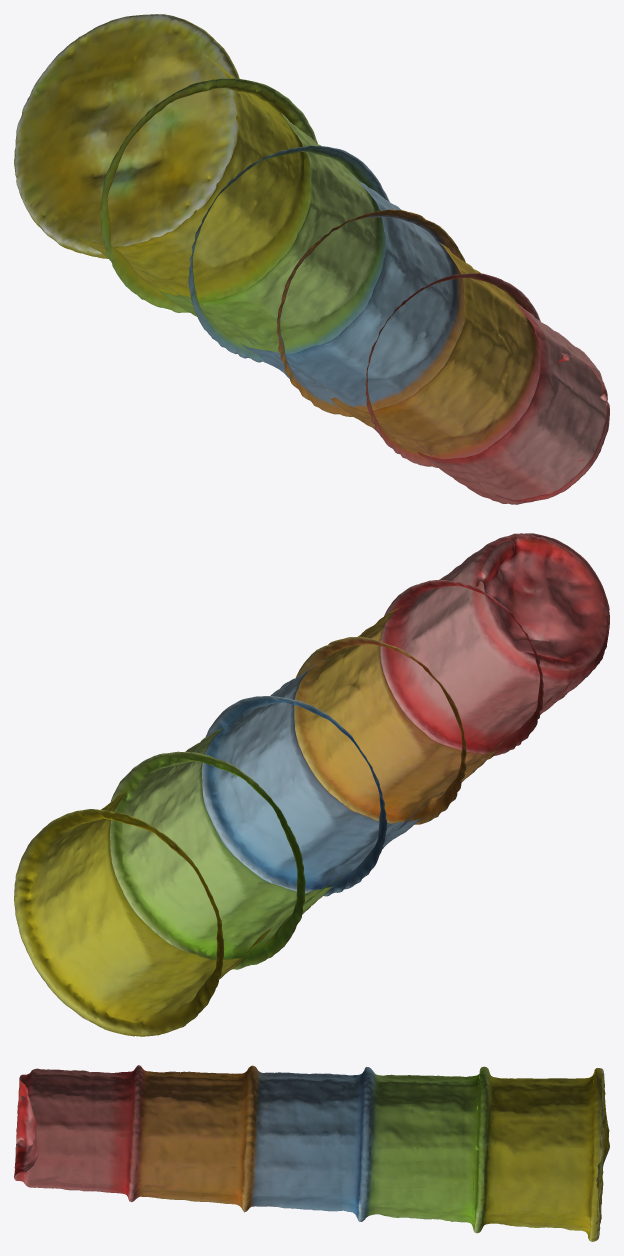
File: stucking_cups.glb
3 views of the same model, one above another, from view 1: azimuth 30°, elevation 25°; view 2: azimuth 150°, elevation 25°; view 3: azimuth 270°, elevation 25° (orthographic). The views are drawn at different scales.
Bounding box in the file's own units: 0.293 × 0.2923 × 1.
